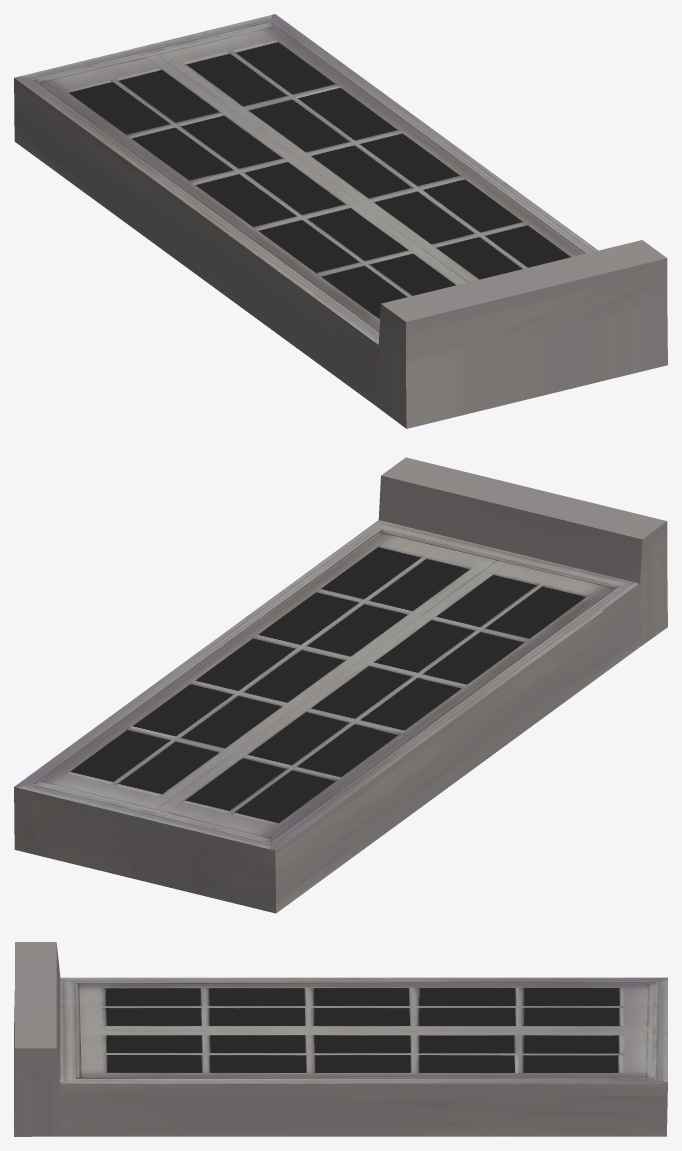
The model's file is WindowV2.fbx.
3 renders of one model, top to bottom at view 1: azimuth 30°, elevation 25°; view 2: azimuth 150°, elevation 25°; view 3: azimuth 270°, elevation 25°, orthographic. The views are drawn at different scales.
Visible parts, largest first — view 1: Plane; view 2: Plane; view 3: Plane.
Boxes of the visible parts, x1,y1,x2,y2 form: Plane: (14, 14, 667, 428); Plane: (14, 457, 667, 913); Plane: (14, 942, 667, 1136).
Bounding box in the file's own units: 600 × 234 × 1562.
Materials: 1 (1 with a texture image).
